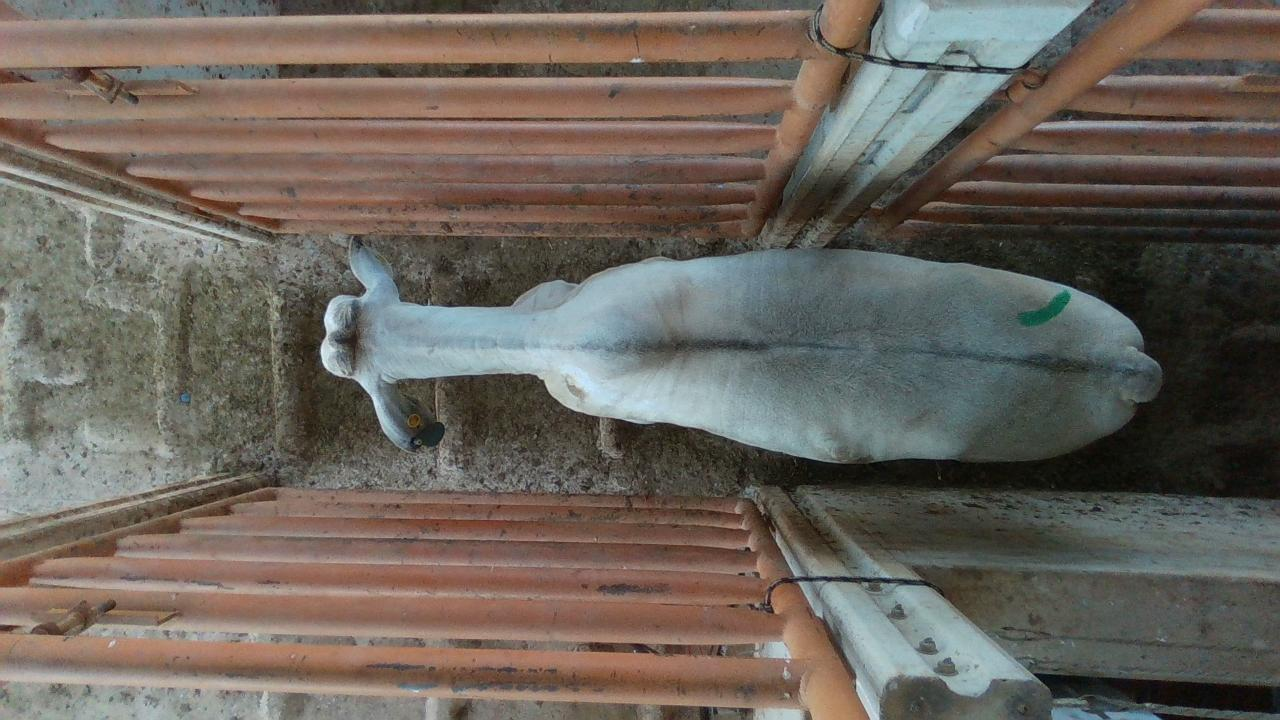cattle: (318, 234, 1164, 465)
